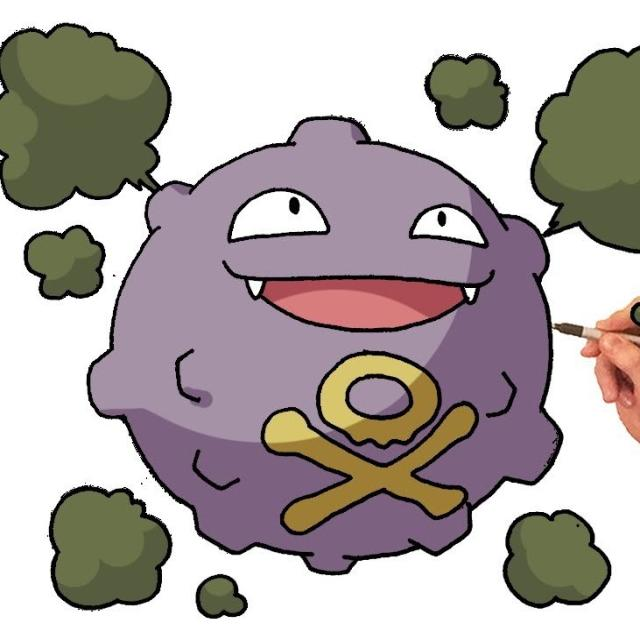Koffing: (97, 122, 565, 566)
